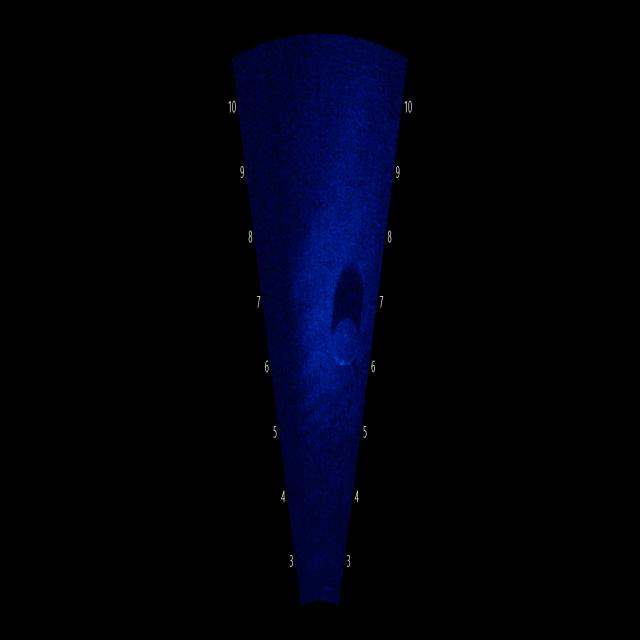circle: (326, 310, 363, 373)
